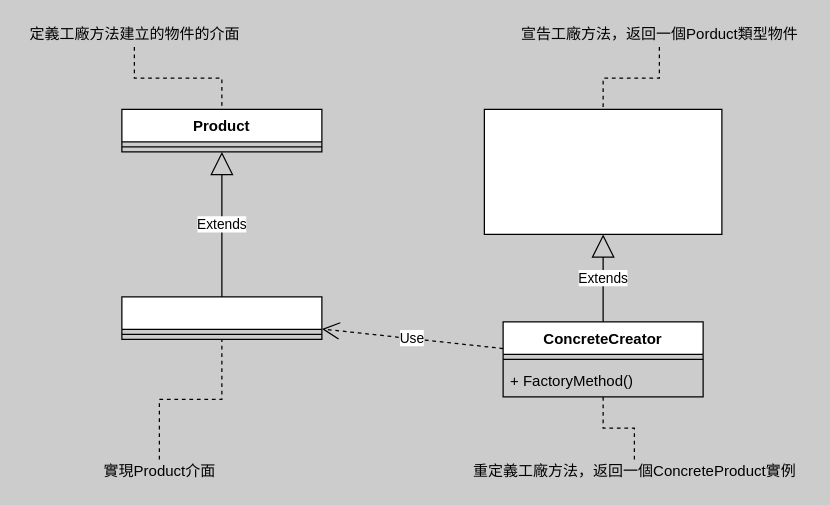
The diagram is 830 pixels wide and 505 high, and some of its shapes have lost their labels. Each missing label, with the centre of its shape:
<<Interface>> Creator + FactoryMethod(): the point at 602,171
ConcreteProduct: the point at 221,317
